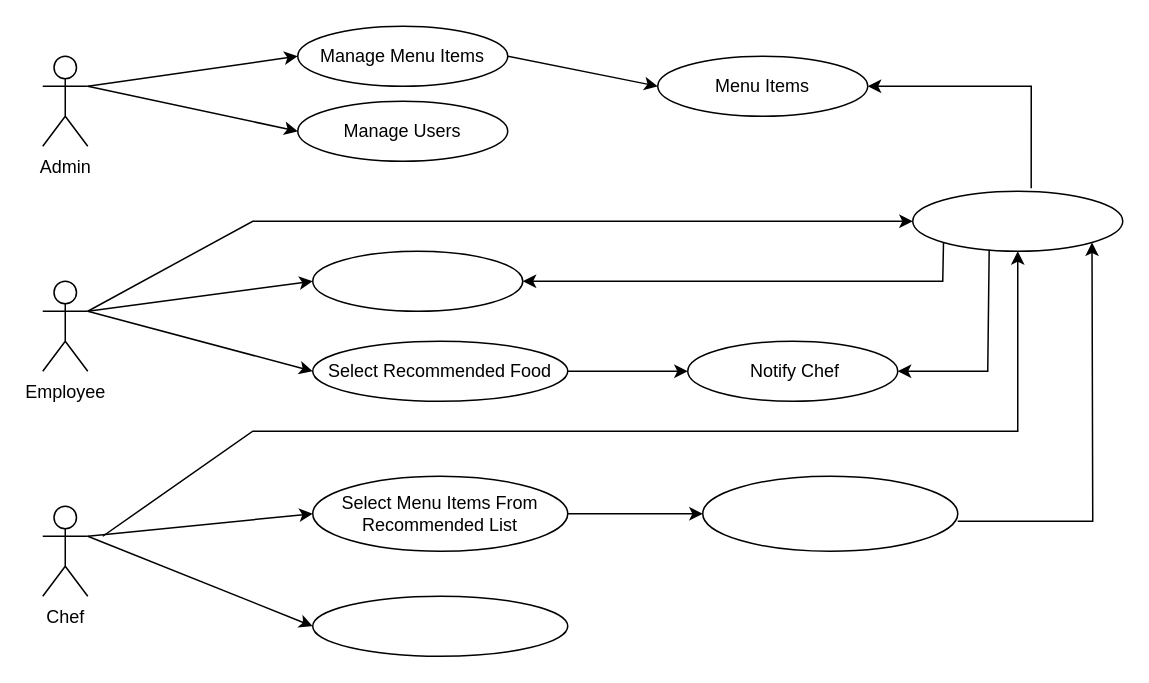
Image size: 1149x683. Some labels were removed from this diagram. The box of each missing label's shape, as (x1, y1, x2, y2) in pixels:
Feedback/Ratings: (311, 250, 523, 311)
Notify Employee about next day meal: (701, 475, 958, 551)
Reommend Food: (311, 595, 568, 656)
View: (911, 190, 1123, 251)
